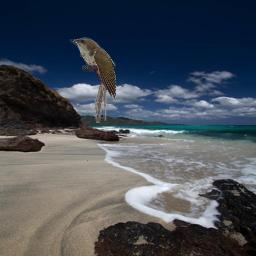Cuckoo: (69, 37, 116, 123)
